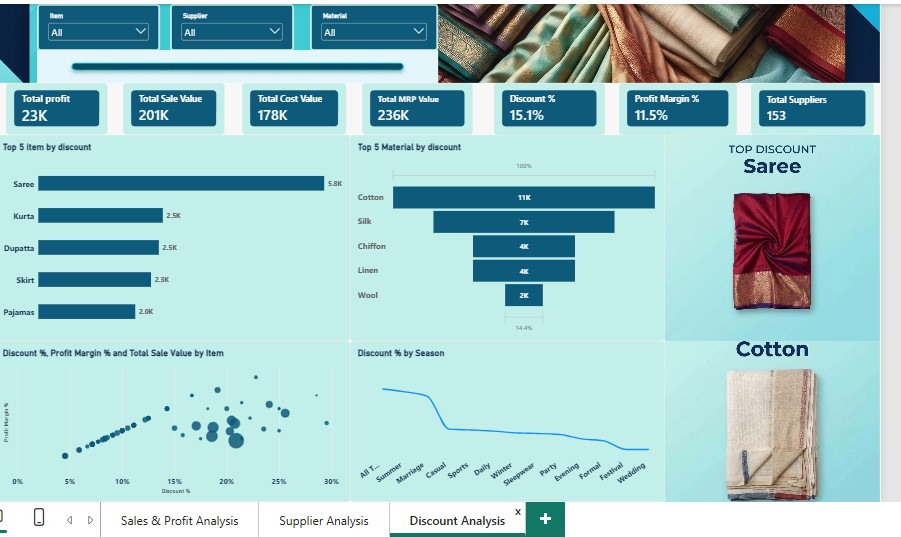

The page's visual inventory and layout, read from the dashboard file:
{"tool":"powerbi","page":{"name":" Discount Analysis","canvas":[1920,1080],"ordinal":2},"visuals":[{"type":"image","box":[0,0,1919.3,171.3],"z":0},{"type":"slicer","fields":{"Values":["Textile_data2 txt.Material"]},"box":[683.1,0,277.6,101.9],"z":1000},{"type":"slicer","fields":{"Values":["Textile_data2 txt.Supplier"]},"box":[379.5,0,268.9,101.9],"z":2000},{"type":"slicer","fields":{"Values":["Textile_data2 txt.Item"]},"box":[91.1,0,266.7,101.9],"z":3000},{"type":"image","box":[91.1,99.8,869.6,71.6],"z":4000},{"type":"clusteredBarChart","title":"Top 5 item by discount","fields":{"Category":["Textile_data2 txt.Item"],"Y":["KPIs.Discount Amount"]},"box":[0,284.1,769.9,446.7],"z":5000},{"type":"cardVisual","fields":{"Data":["KPIs.Total profit"]},"box":[23.9,171.3,220,112],"z":6000},{"type":"cardVisual","fields":{"Data":["KPIs.Total Sale Value"]},"box":[277.6,171.3,220,112],"z":7000},{"type":"funnel","title":"Top 5  Material by discount","fields":{"Category":["Textile_data2 txt.Material"],"Y":["KPIs.Discount Amount"]},"box":[769.9,284.1,683.1,446.7],"z":8000},{"type":"scatterChart","fields":{"Category":["Textile_data2 txt.Item"],"Size":["KPIs.Total Sale Value"],"X":["KPIs.Discount %"],"Y":["KPIs.Profit Margin %"]},"box":[0,730.8,769.9,349.2],"z":9000},{"type":"lineChart","fields":{"Category":["Textile_data2 txt.Season"],"Y":["KPIs.Discount %"]},"box":[770,731,683,349],"z":10000},{"type":"cardVisual","fields":{"Data":["KPIs.Total Cost Value"]},"box":[535.7,171.3,226,112],"z":11000},{"type":"cardVisual","fields":{"Data":["KPIs.Total MRP Value"]},"box":[795.9,171.3,240,112],"z":12000},{"type":"cardVisual","fields":{"Data":["KPIs.Discount %"]},"box":[1082.2,171.3,240.7,112.8],"z":13000},{"type":"cardVisual","fields":{"Data":["KPIs.Total Suppliers"]},"box":[1639.5,171.3,266.7,112.8],"z":14000},{"type":"cardVisual","fields":{"Data":["KPIs.Profit Margin %"]},"box":[1353.3,171.3,255.9,112.8],"z":15000},{"type":"image","box":[1453,284.1,466.3,446.7],"z":16000},{"type":"image","box":[1453,730.8,466.3,349.2],"z":17000}]}

Visuals, with their boxes on the page's 1920x1080 design canvas (x1, y1, x2, y2). These are canvas units, not pixel positions in the 901x538 screenshot, which may show the page scaled, cropped or inside an application window:
image: [x1=0, y1=0, x2=1919, y2=171]
slicer - Textile_data2 txt.Material: [x1=683, y1=0, x2=961, y2=102]
slicer - Textile_data2 txt.Supplier: [x1=380, y1=0, x2=648, y2=102]
slicer - Textile_data2 txt.Item: [x1=91, y1=0, x2=358, y2=102]
image: [x1=91, y1=100, x2=961, y2=171]
"Top 5 item by discount" clusteredBarChart: [x1=0, y1=284, x2=770, y2=731]
cardVisual - KPIs.Total profit: [x1=24, y1=171, x2=244, y2=283]
cardVisual - KPIs.Total Sale Value: [x1=278, y1=171, x2=498, y2=283]
"Top 5  Material by discount" funnel: [x1=770, y1=284, x2=1453, y2=731]
scatterChart - Textile_data2 txt.Item x KPIs.Total Sale Value: [x1=0, y1=731, x2=770, y2=1080]
lineChart - Textile_data2 txt.Season x KPIs.Discount %: [x1=770, y1=731, x2=1453, y2=1080]
cardVisual - KPIs.Total Cost Value: [x1=536, y1=171, x2=762, y2=283]
cardVisual - KPIs.Total MRP Value: [x1=796, y1=171, x2=1036, y2=283]
cardVisual - KPIs.Discount %: [x1=1082, y1=171, x2=1323, y2=284]
cardVisual - KPIs.Total Suppliers: [x1=1640, y1=171, x2=1906, y2=284]
cardVisual - KPIs.Profit Margin %: [x1=1353, y1=171, x2=1609, y2=284]
image: [x1=1453, y1=284, x2=1919, y2=731]
image: [x1=1453, y1=731, x2=1919, y2=1080]
